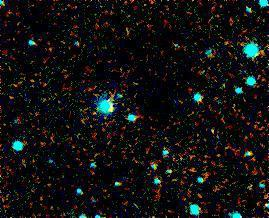star: (98, 92, 128, 122)
